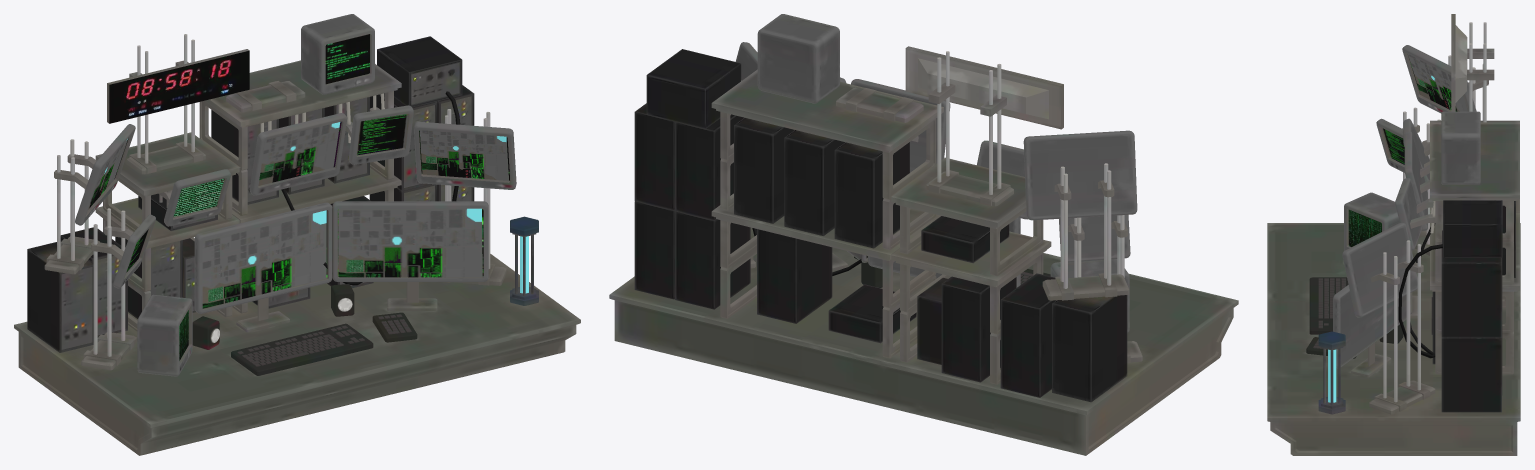
File: tradingDesk.glb
3 views of the same model, side by side, from view 1: azimuth 30°, elevation 25°; view 2: azimuth 150°, elevation 25°; view 3: azimuth 270°, elevation 25° (orthographic). The views are drawn at different scales.
Visible parts, largest first — view 1: pCube191_Screen1_0.017, Screen4, Screen3, Screen2, Screen1, Screen5; view 2: pCube191_Screen1_0.017; view 3: pCube191_Screen1_0.017, Screen5.
Part boxes in pixels (x1,y1,x2,y2): pCube191_Screen1_0.017: (14,14,580,455); Screen4: (338,208,482,277); Screen3: (202,210,326,308); Screen2: (419,130,508,180); Screen1: (258,122,340,185); Screen5: (88,139,127,209); pCube191_Screen1_0.017: (609,14,1238,455); pCube191_Screen1_0.017: (1267,14,1520,455); Screen5: (1408,54,1467,111).
Size of the model in its own units: 4.01 by 2.79 by 2.19.
Materials: 4 (3 with a texture image).
